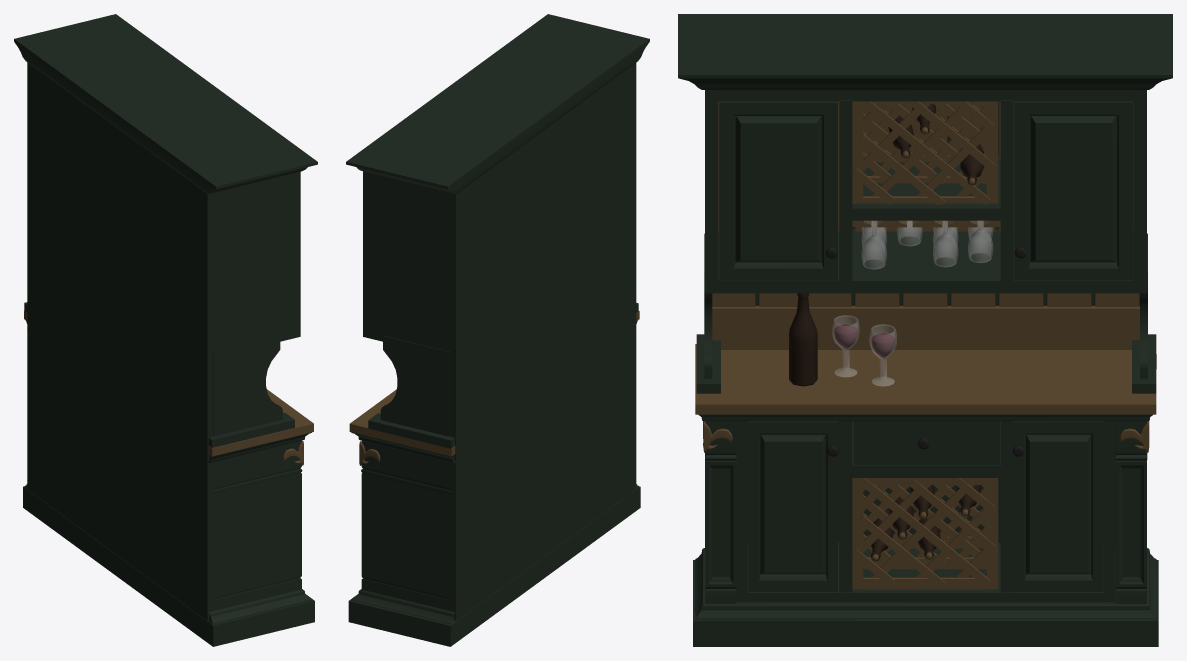
Rendered from Bar_cabinet.fbx.
3 renders of one model, left to right at view 1: azimuth 30°, elevation 25°; view 2: azimuth 150°, elevation 25°; view 3: azimuth 270°, elevation 25°, orthographic. The views are drawn at different scales.
Parts seen in each view (by area): view 1: pCube3, pCube5, pCube2, polySurface2, pCube4, pCube26, pCube11, pCube12, pCube14, pCube13; view 2: pCube3, pCube5, pCube2, polySurface4, pCube4, pCube27, pCube11, pCube12, pCube28, pCube13; view 3: pCube5, pCube12, pCube2, pCube10, pCube8, pCube15, pCube40, pCube39, pCube56, pCube4, pCube57, pCube30 (+23 smaller).
Boxes of the visible parts, x1,y1,x2,y2 form: pCube3: (27, 62, 213, 620); pCube5: (14, 14, 317, 194); pCube2: (213, 171, 300, 356); polySurface2: (214, 440, 302, 610); pCube4: (23, 486, 314, 646); pCube26: (213, 335, 282, 436); pCube11: (24, 484, 311, 624); pCube12: (24, 311, 313, 456); pCube14: (208, 412, 294, 447); pCube13: (25, 320, 311, 462); pCube3: (449, 63, 636, 620); pCube5: (346, 14, 649, 193); pCube2: (363, 171, 450, 355); polySurface4: (361, 440, 453, 611); pCube4: (348, 486, 640, 646); pCube27: (380, 335, 449, 436); pCube11: (351, 484, 639, 624); pCube12: (349, 311, 639, 456); pCube28: (368, 413, 454, 448); pCube13: (351, 320, 637, 463); pCube5: (678, 14, 1172, 89); pCube12: (695, 344, 1156, 414); pCube2: (705, 90, 1146, 293); pCube10: (1014, 101, 1132, 280); pCube8: (719, 101, 837, 280); pCube15: (712, 306, 1139, 349); pCube40: (1013, 421, 1103, 591); pCube39: (748, 421, 837, 591); pCube56: (852, 478, 998, 589); pCube4: (693, 560, 1158, 646); pCube57: (852, 101, 998, 204); pCube30: (736, 421, 1115, 602).
Bounding box in the file's own units: 2.4 × 9.25 × 7.28.
